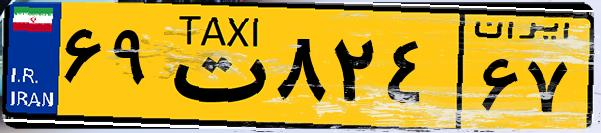2: (330, 28, 385, 110)
4: (385, 28, 445, 110)
6: (57, 26, 110, 100), (475, 38, 525, 113)
7: (525, 38, 570, 115)
8: (270, 28, 330, 110)
9: (110, 28, 158, 98)
ت: (158, 12, 270, 120)
